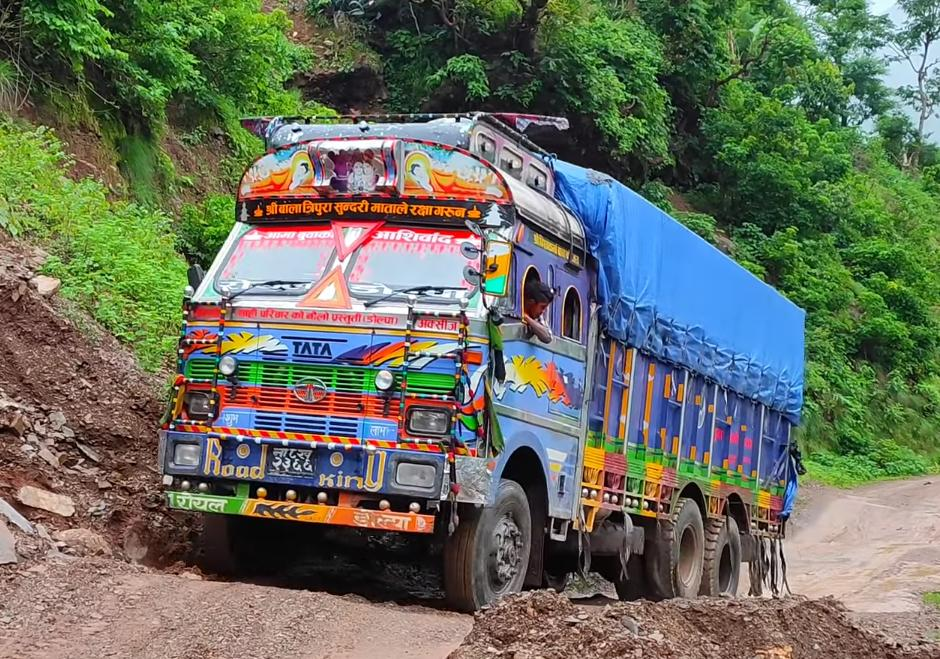truck: (155, 109, 808, 613)
